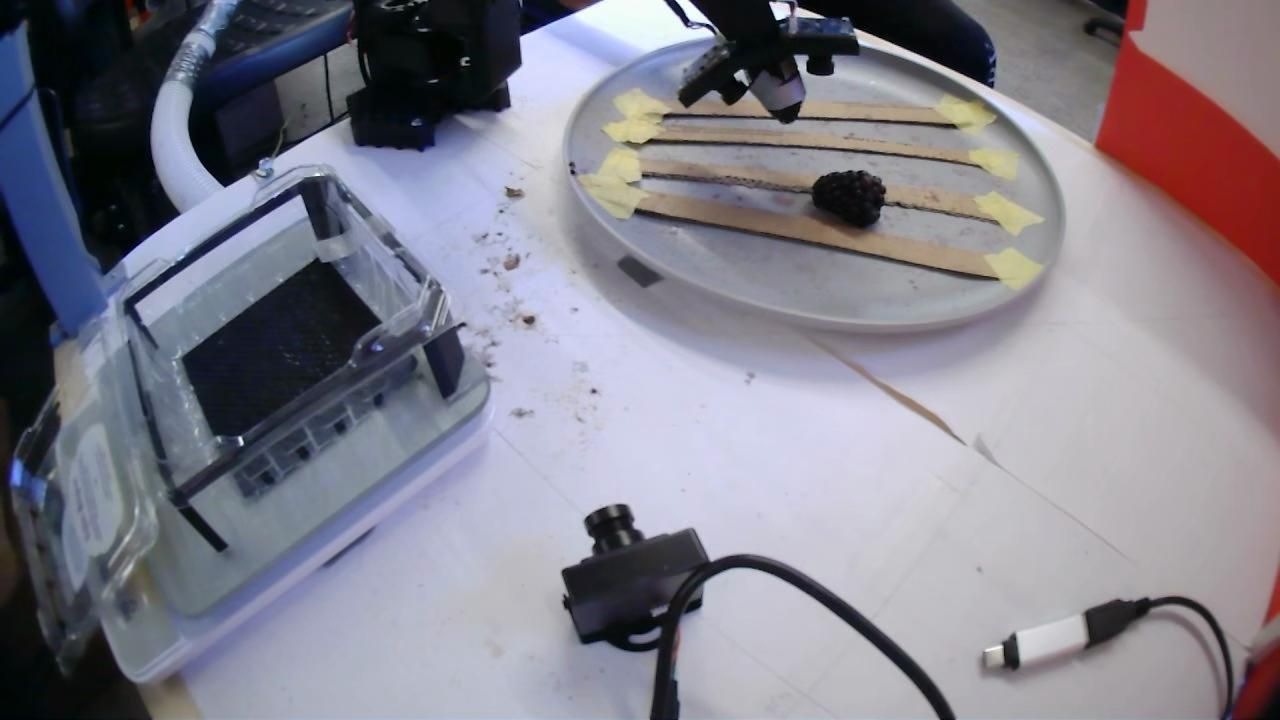berry: (812, 170, 886, 227)
